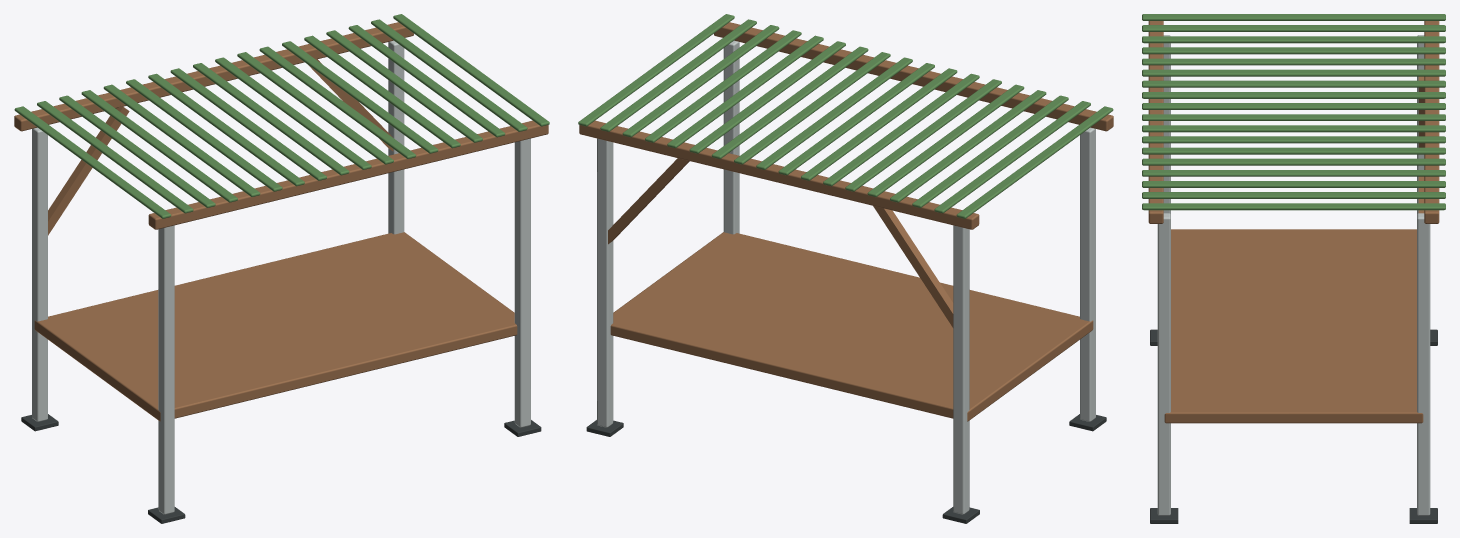
The model's file is tea-garden-and-processing-house-tea-garden-and-process-968a896d__30754.glb.
3 views of the same model, side by side, from view 1: azimuth 30°, elevation 25°; view 2: azimuth 150°, elevation 25°; view 3: azimuth 270°, elevation 25° (orthographic). The views are drawn at different scales.
Visible parts, largest first — view 1: tea-garden-and-processing-house-nursery-shade-frame; view 2: tea-garden-and-processing-house-nursery-shade-frame; view 3: tea-garden-and-processing-house-nursery-shade-frame.
Part boxes in pixels (box(x1,y1,x2,y2)): tea-garden-and-processing-house-nursery-shade-frame: box(14, 14, 549, 523); tea-garden-and-processing-house-nursery-shade-frame: box(578, 14, 1113, 523); tea-garden-and-processing-house-nursery-shade-frame: box(1142, 14, 1445, 523).
Size of the model in its own units: 2.3 by 1.74 by 1.5.
